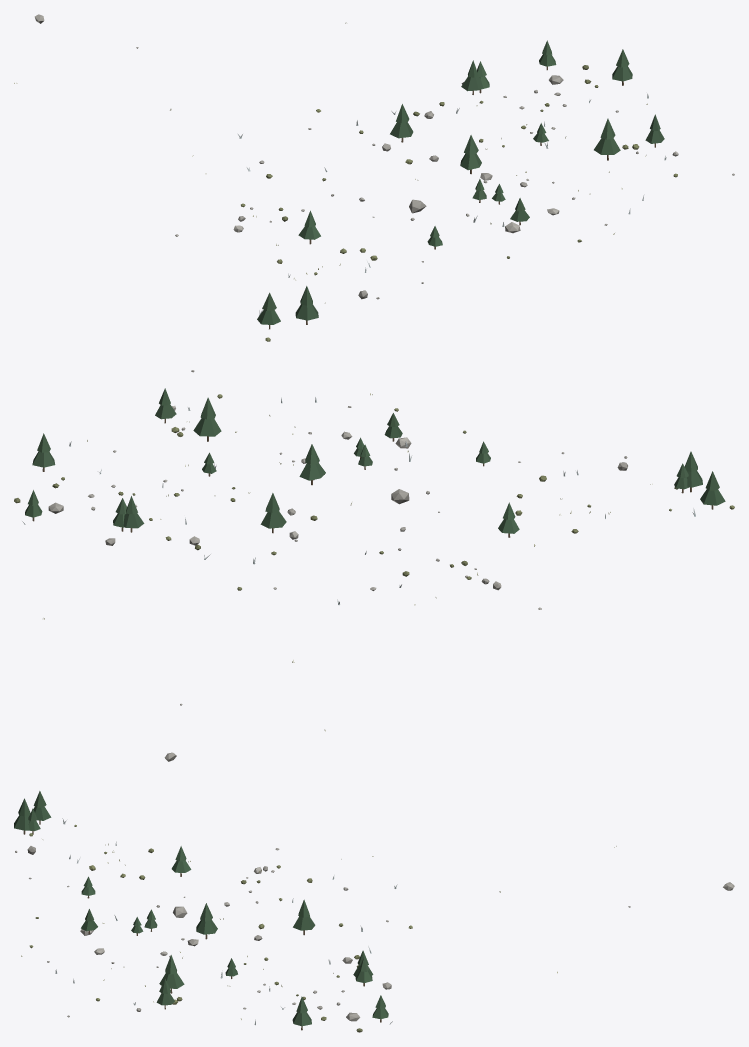
The model's file is coast_land_scatter_c09_16_lod1.glb.
3 renders of one model, top to bottom at view 1: azimuth 30°, elevation 25°; view 2: azimuth 150°, elevation 25°; view 3: azimuth 270°, elevation 25°, orthographic. The views are drawn at different scales.
Parts seen in each view (by area): view 1: coast_land_scatter_c09_16_lod1; view 2: coast_land_scatter_c09_16_lod1; view 3: coast_land_scatter_c09_16_lod1.
Part boxes in pixels (left/top/right/bottom): coast_land_scatter_c09_16_lod1: left=14, top=14, right=734, bottom=341; coast_land_scatter_c09_16_lod1: left=14, top=370, right=734, bottom=761; coast_land_scatter_c09_16_lod1: left=14, top=791, right=734, bottom=1032.
Size of the model in its own units: 194 by 25.02 by 253.
